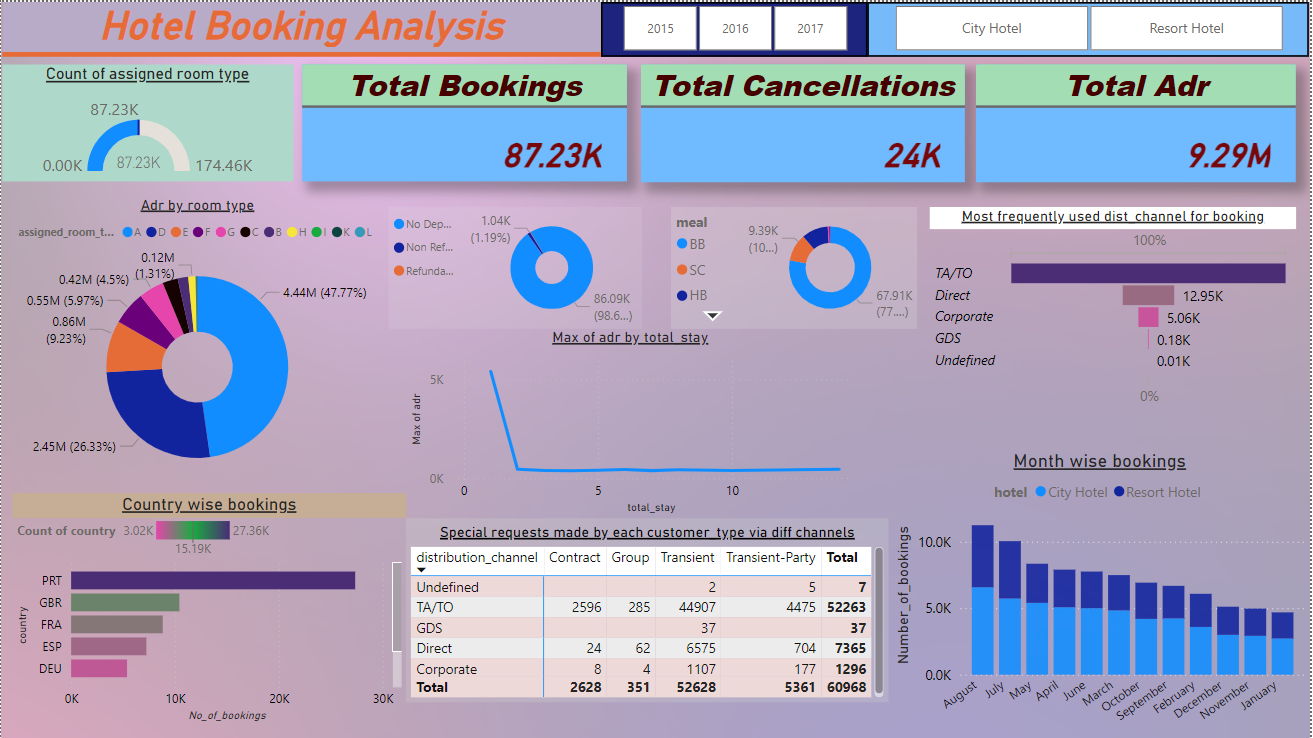

What the dashboard file says about the page in this screenshot:
{"tool":"powerbi","page":{"name":"Page 1","canvas":[1280,720],"ordinal":0},"visuals":[{"type":"cardVisual","title":"Total Bookings","fields":{"Data":["CountNonNull(new_hotel_bookings.hotel)"]},"box":[294.4,61.1,317.8,114.4],"z":0},{"type":"cardVisual","title":"Total Cancellations","fields":{"Data":["Sum(new_hotel_bookings.is_canceled)"]},"box":[626.6,60.6,317,114.9],"z":1000},{"type":"cardVisual","title":"Total Adr","fields":{"Data":["Sum(new_hotel_bookings.adr)"]},"box":[954.3,60.6,312.8,114.9],"z":2000},{"type":"slicer","fields":{"Values":["new_hotel_bookings.hotel"]},"box":[847.8,0,432.2,53.3],"z":3000},{"type":"image","box":[0,0,66.7,53.3],"z":4000},{"type":"lineStackedColumnComboChart","title":"Month wise bookings","fields":{"Category":["new_hotel_bookings.arrival_date_month"],"Y":["CountNonNull(new_hotel_bookings.arrival_date_month)"],"Series":["new_hotel_bookings.hotel"]},"box":[868.9,437.8,411.1,282.2],"z":5000},{"type":"pivotTable","title":"Special requests made by each customer_type via diff channels","fields":{"Values":["Sum(new_hotel_bookings.total_of_special_requests)"],"Columns":["new_hotel_bookings.customer_type"],"Rows":["new_hotel_bookings.distribution_channel"]},"box":[396.7,505.6,472.2,180],"z":6000},{"type":"donutChart","title":"Adr by room type","fields":{"Y":["Sum(new_hotel_bookings.adr)"],"Category":["new_hotel_bookings.assigned_room_type"],"Series":["new_hotel_bookings.assigned_room_type"]},"box":[0,190,384.4,291.1],"z":7000},{"type":"funnel","title":"Most frequently used dist_channel for booking","fields":{"Category":["new_hotel_bookings.distribution_channel"],"Y":["CountNonNull(new_hotel_bookings.distribution_channel)"]},"box":[908.4,200.3,358.3,199.1],"z":8000},{"type":"clusteredBarChart","title":"Country wise bookings","fields":{"Category":["new_hotel_bookings.country"],"Y":["CountNonNull(new_hotel_bookings.country)"]},"box":[11.1,481.1,385.6,228.9],"z":9000},{"type":"lineChart","fields":{"Category":["new_hotel_bookings.total_stay"],"Y":["Max(new_hotel_bookings.adr)"]},"box":[396.7,318.9,438.9,186.7],"z":10000},{"type":"gauge","title":"Count of assigned room type","fields":{"Y":["CountNonNull(new_hotel_bookings.assigned_room_type)"],"TargetValue":["CountNonNull(new_hotel_bookings.assigned_room_type)"]},"box":[1.1,61.1,284.4,114.4],"z":11000},{"type":"slicer","fields":{"Values":["new_hotel_bookings.arrival_date_year"]},"box":[586.7,0,261.1,53.3],"z":12000},{"type":"textbox","title":"Hotel Booking Analysis","box":[1.1,0,585.6,53.3],"z":13000},{"type":"donutChart","fields":{"Category":["new_hotel_bookings.deposit_type"],"Y":["CountNonNull(new_hotel_bookings.deposit_type)"]},"box":[378.9,200,247.8,118.9],"z":14000},{"type":"donutChart","fields":{"Category":["new_hotel_bookings.meal"],"Y":["CountNonNull(new_hotel_bookings.meal)"]},"box":[655.6,200,241.1,118.9],"z":15000}]}

Visuals, with their boxes in screenshot pixels (x1, y1, x2, y2), scaled from the page's 1280x720 canvas onto the 1313x738 screenshot:
"Total Bookings" cardVisual: 302, 63, 628, 180
"Total Cancellations" cardVisual: 643, 62, 968, 180
"Total Adr" cardVisual: 979, 62, 1300, 180
slicer - new_hotel_bookings.hotel: 870, 0, 1312, 55
image: 0, 0, 68, 55
"Month wise bookings" lineStackedColumnComboChart: 891, 449, 1312, 737
"Special requests made by each customer_type via diff channels" pivotTable: 407, 518, 891, 703
"Adr by room type" donutChart: 0, 195, 394, 493
"Most frequently used dist_channel for booking" funnel: 932, 205, 1299, 409
"Country wise bookings" clusteredBarChart: 11, 493, 407, 728
lineChart - new_hotel_bookings.total_stay x Max(new_hotel_bookings.adr): 407, 327, 857, 518
"Count of assigned room type" gauge: 1, 63, 293, 180
slicer - new_hotel_bookings.arrival_date_year: 602, 0, 870, 55
"Hotel Booking Analysis" textbox: 1, 0, 602, 55
donutChart - new_hotel_bookings.deposit_type x CountNonNull(new_hotel_bookings.deposit_type): 389, 205, 643, 327
donutChart - new_hotel_bookings.meal x CountNonNull(new_hotel_bookings.meal): 673, 205, 920, 327
